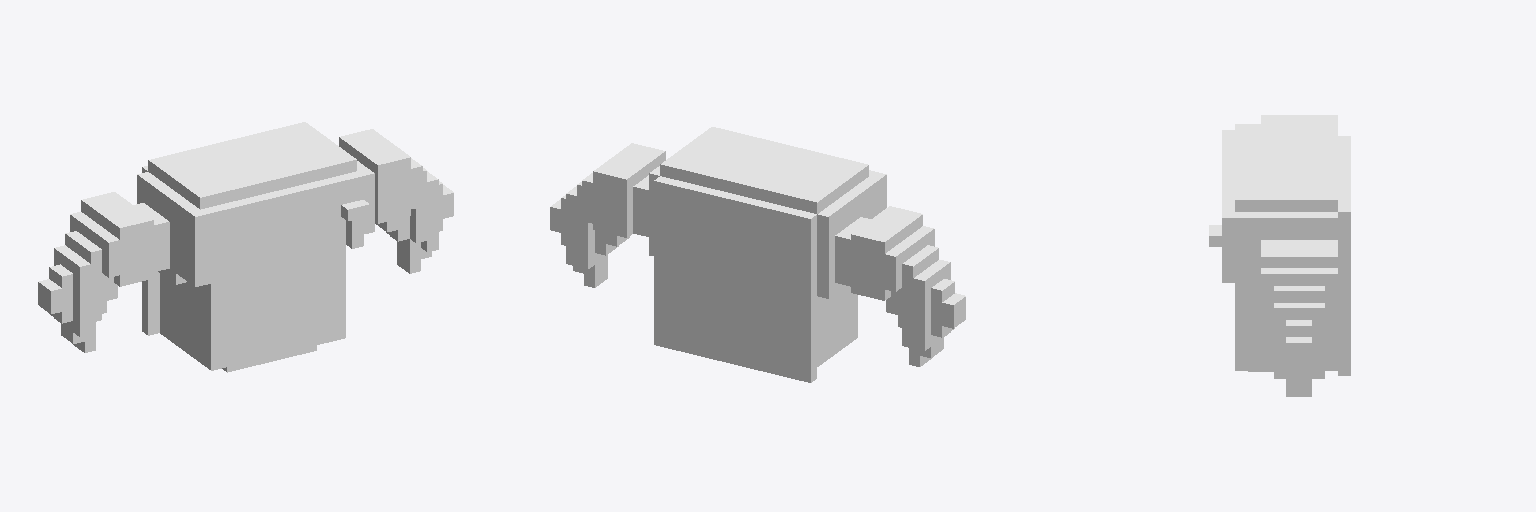
File: cabeza.obj
The picture shows the model from 3 angles: view 1: azimuth 30°, elevation 25°; view 2: azimuth 150°, elevation 25°; view 3: azimuth 270°, elevation 25°; orthographic projection.
Parts seen in each view (by area): view 1: cabeza; view 2: cabeza; view 3: cabeza.
Boxes of the visible parts, <box> form: cabeza: <box>38,122,453,372</box>; cabeza: <box>550,127,965,382</box>; cabeza: <box>1209,115,1350,396</box>.
Size of the model in its own units: 3.6 by 1.6 by 1.1.